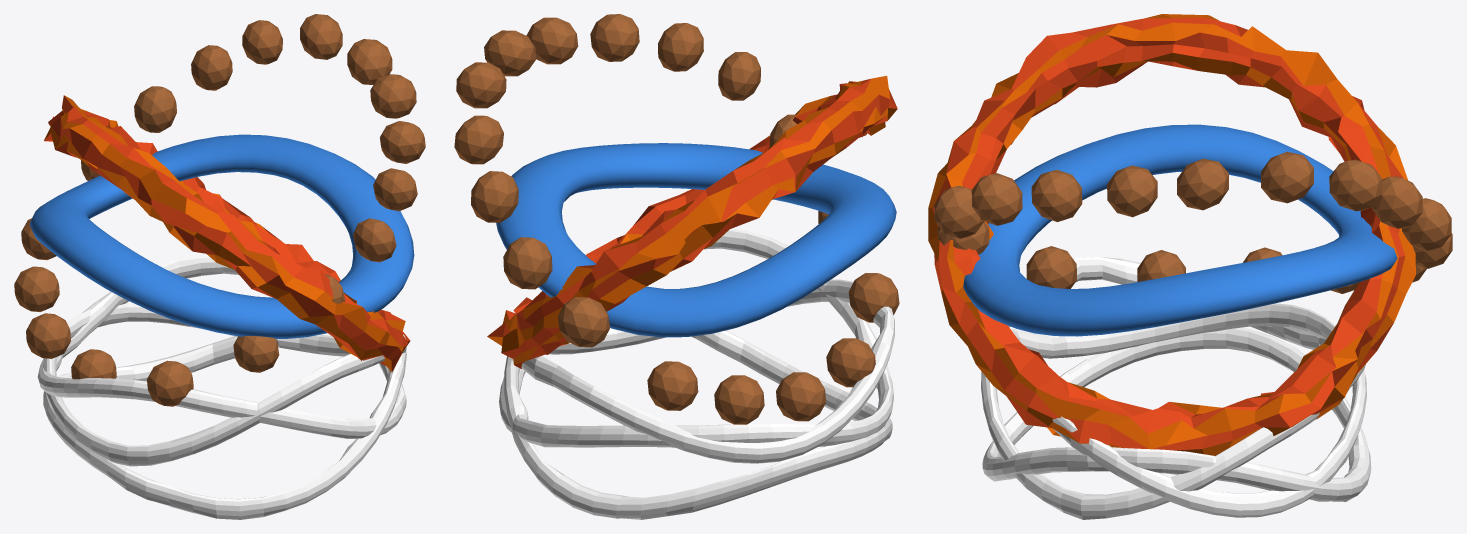
Rendered from ElementalState.fbx.
3 renders of one model, left to right at view 1: azimuth 30°, elevation 25°; view 2: azimuth 150°, elevation 25°; view 3: azimuth 270°, elevation 25°, orthographic. The views are drawn at different scales.
Visible parts, largest first — view 1: Torus.001, Torus.004, Icosphere.017, Torus.005; view 2: Torus.004, Torus.001, Icosphere.017, Torus.005; view 3: Torus.005, Torus.004, Torus.001, Icosphere.017.
Part boxes in pixels (left/top/right/bottom): Torus.001: left=29, top=134, right=414, bottom=338; Torus.004: left=37, top=255, right=406, bottom=519; Icosphere.017: left=14, top=14, right=425, bottom=406; Torus.005: left=44, top=95, right=410, bottom=372; Torus.004: left=499, top=228, right=894, bottom=519; Torus.001: left=496, top=143, right=896, bottom=337; Icosphere.017: left=454, top=14, right=899, bottom=424; Torus.005: left=487, top=75, right=897, bottom=368; Torus.005: left=928, top=14, right=1415, bottom=455; Torus.004: left=981, top=257, right=1371, bottom=519; Torus.001: left=963, top=124, right=1397, bottom=336; Icosphere.017: left=934, top=151, right=1452, bottom=293.
Size of the model in its own units: 267 by 271 by 315.
